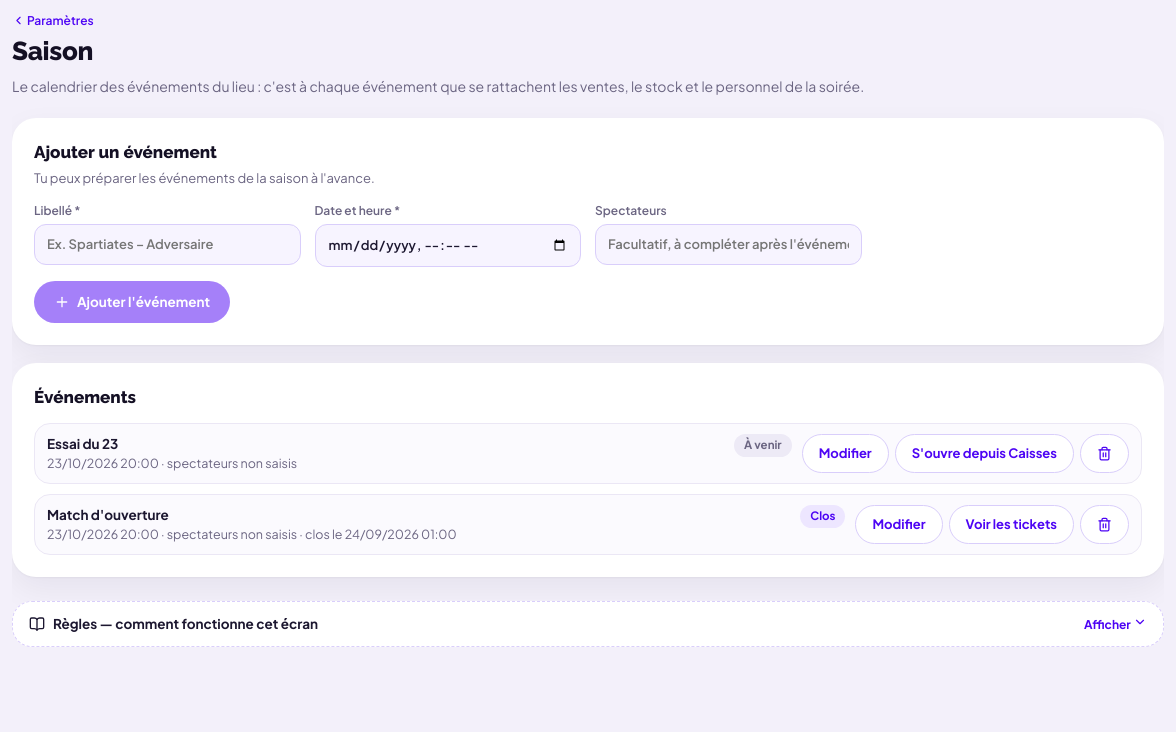
Scenario: supprimer un événement › à venir : confirmation puis suppression ; clos : la corbeille explique pourquoi, sans rien envoyer
Expected: the text "Essai du 23" is shown, [47,435,118,452]
Click the button named "Supprimer Match d'ouverture".
click(1104, 524)  # box [1080,505,1129,544]
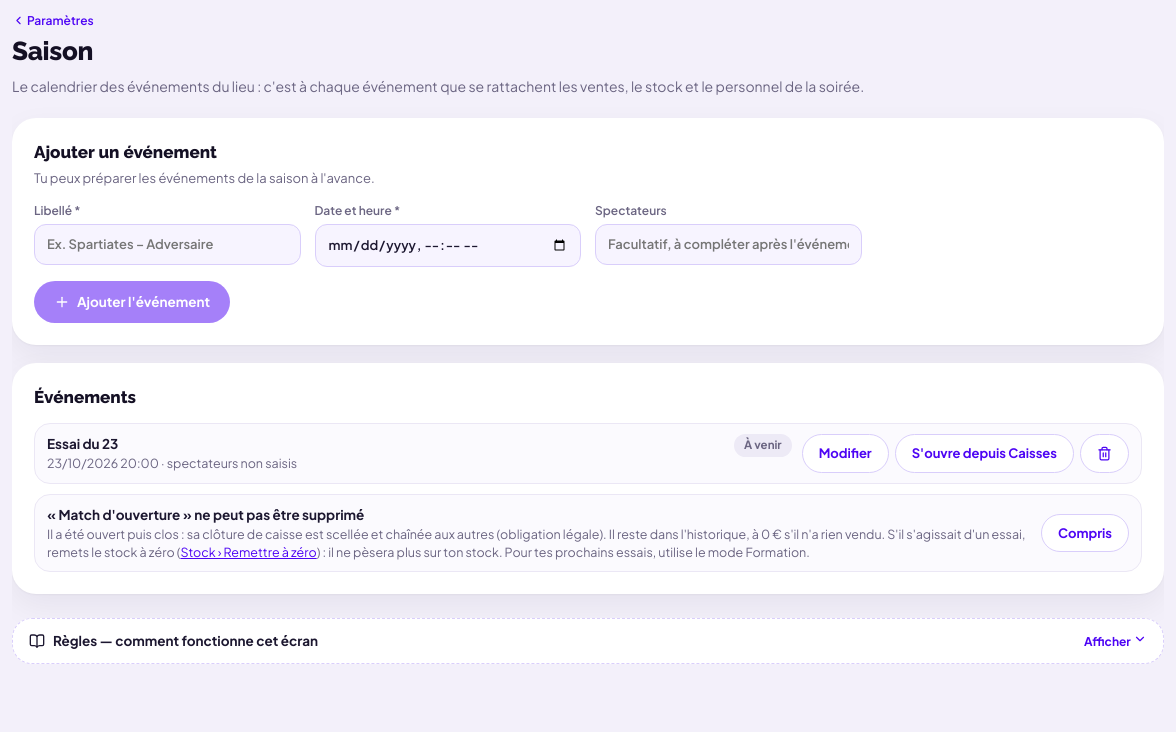
Now the text "« Match d'ouverture » ne peut pas être supprimé" is shown, box [47,506,364,523]
Now the text "chaînée aux autres" is shown, box [47,526,885,542]
Click the button "Compris".
click(1085, 533)  # box [1041,514,1129,552]
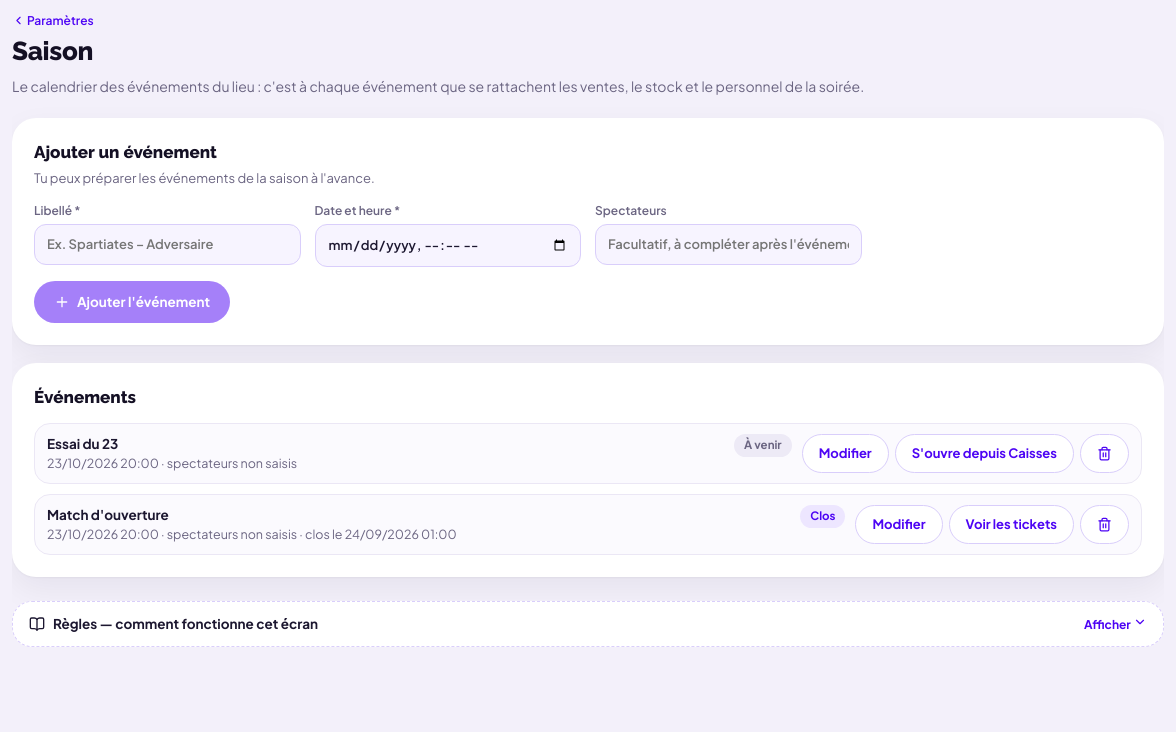
Click the button named "Supprimer Essai du 23".
click(1104, 454)  # box [1080,434,1129,473]
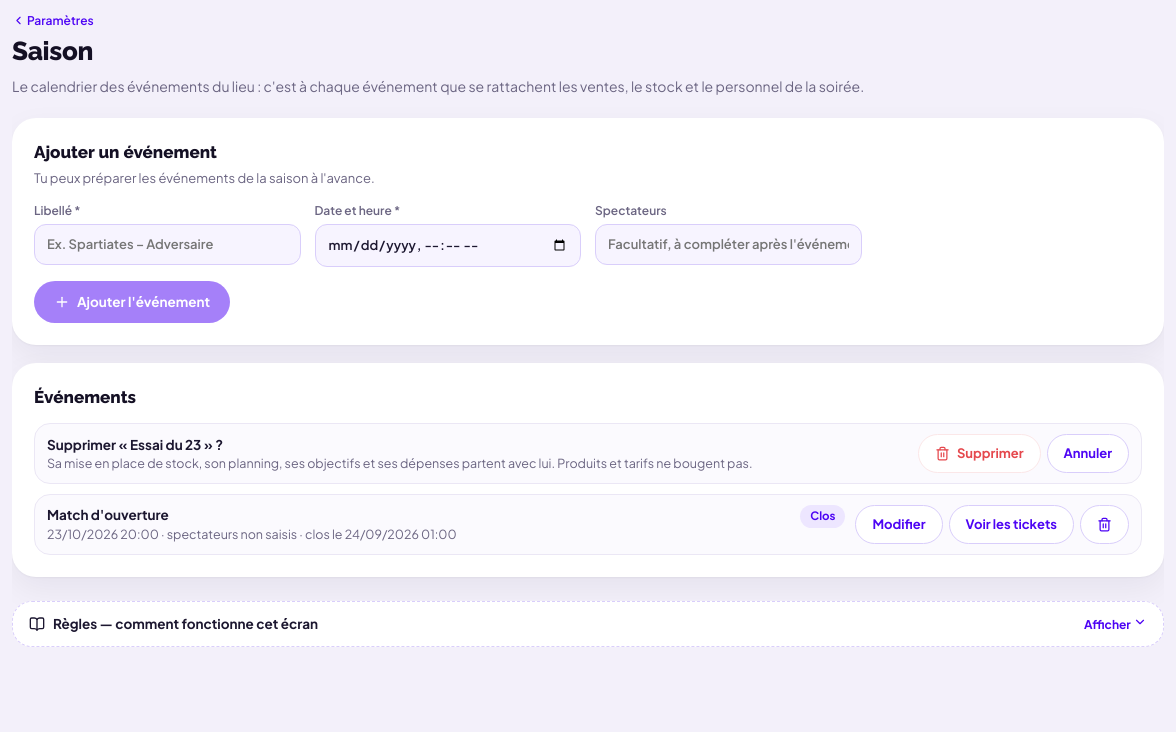
Now the text "Supprimer « Essai du 23 » ?" is shown, box [47,436,223,453]
Click the button "Supprimer".
click(979, 454)  # box [918,434,1041,473]
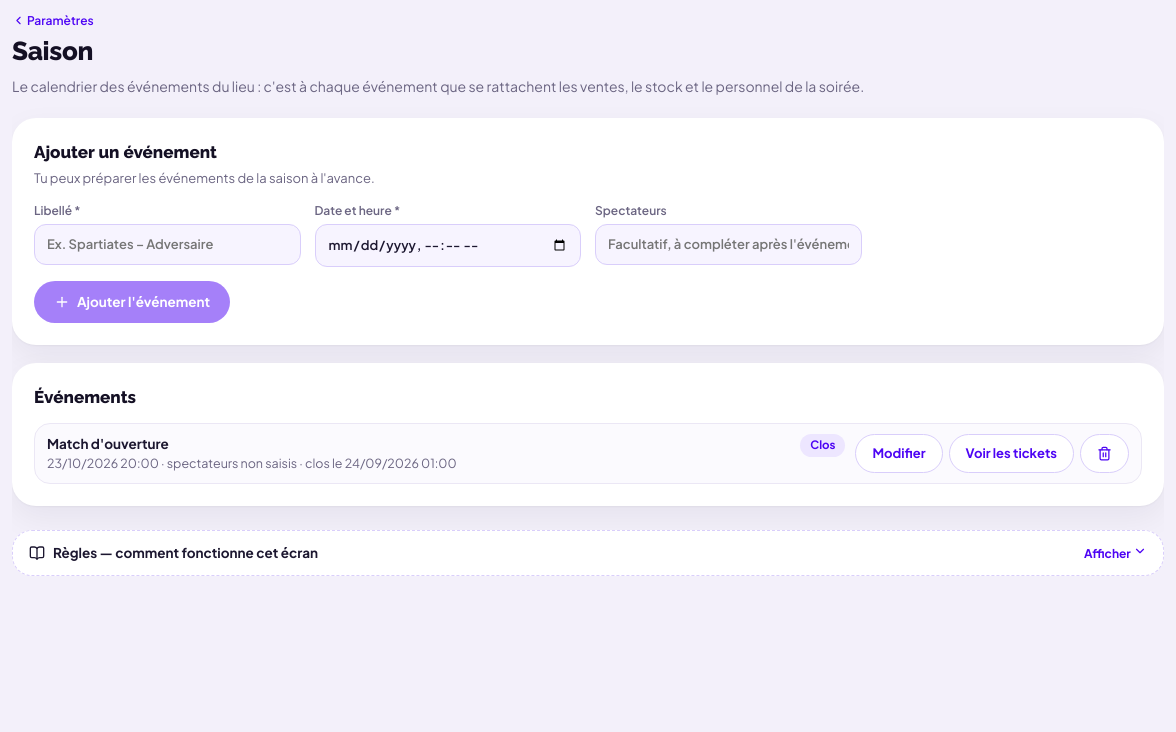
Now the text "Essai du 23" is gone
